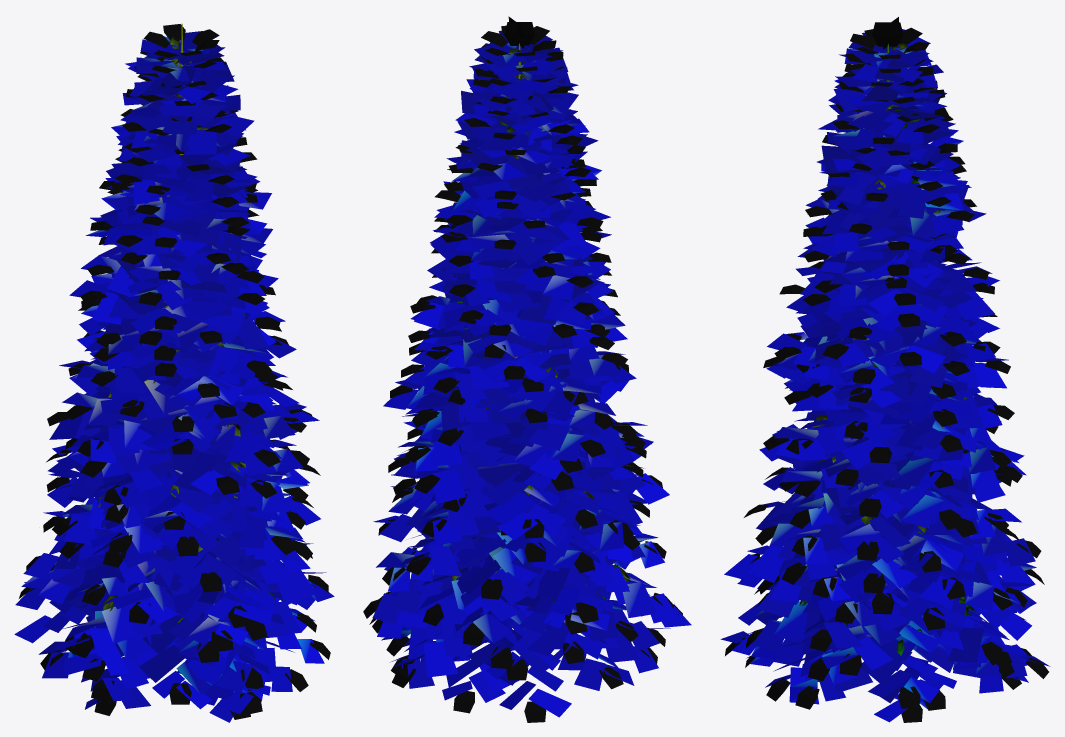
The model's file is tree_spruce_2.glb.
3 renders of one model, left to right at view 1: azimuth 30°, elevation 25°; view 2: azimuth 150°, elevation 25°; view 3: azimuth 270°, elevation 25°, orthographic. The views are drawn at different scales.
Parts seen in each view (by area): view 1: lod1_spruce_2; view 2: lod1_spruce_2; view 3: lod1_spruce_2.
Part boxes in pixels (x1,y1,x2,y2): lod1_spruce_2: [14, 23, 334, 722]; lod1_spruce_2: [363, 16, 691, 722]; lod1_spruce_2: [720, 17, 1050, 722].
Bounding box in the file's own units: 7.14 × 15.57 × 7.17.
